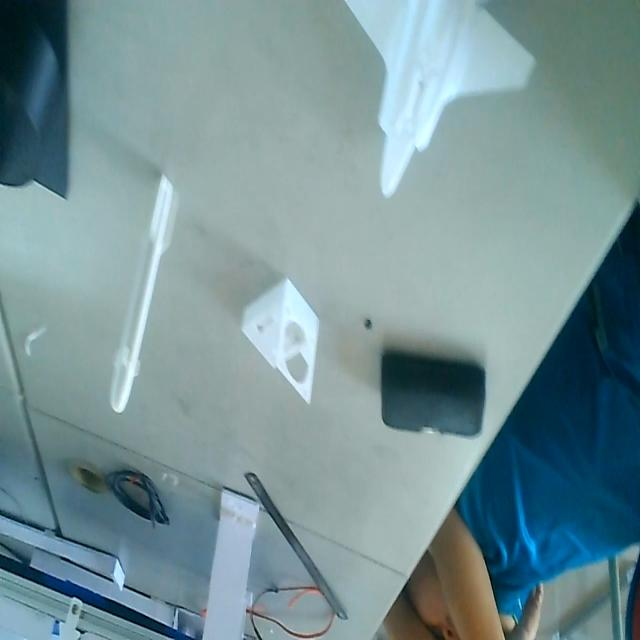Jet: (341, 0, 541, 203)
Rocket: (108, 172, 180, 412)
